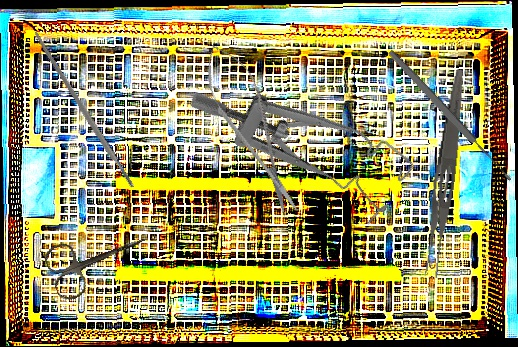Dressing Forceps: (419, 67, 469, 280)
Iris Scissors: (41, 213, 158, 304)
Micro Scissor: (190, 34, 314, 225)
Scalpel Handle: (31, 30, 136, 190)
Speculum: (185, 30, 421, 243)
Surgical Spoon: (386, 48, 514, 184)
